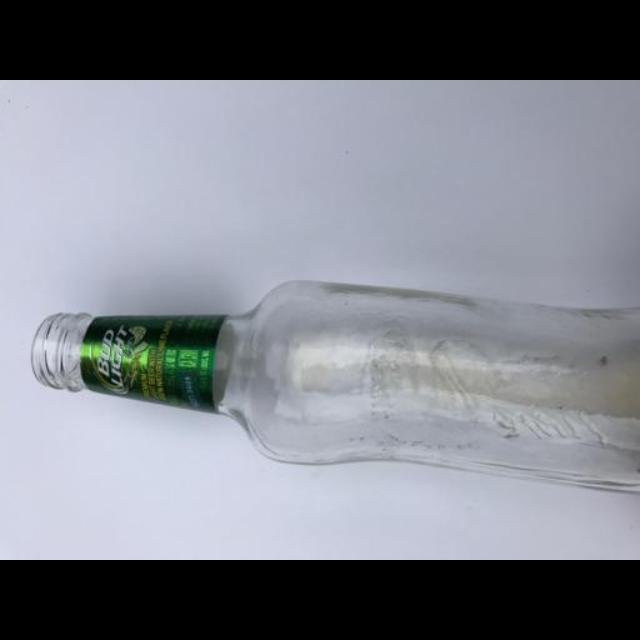garrafa de vidro: (31, 280, 640, 490)
